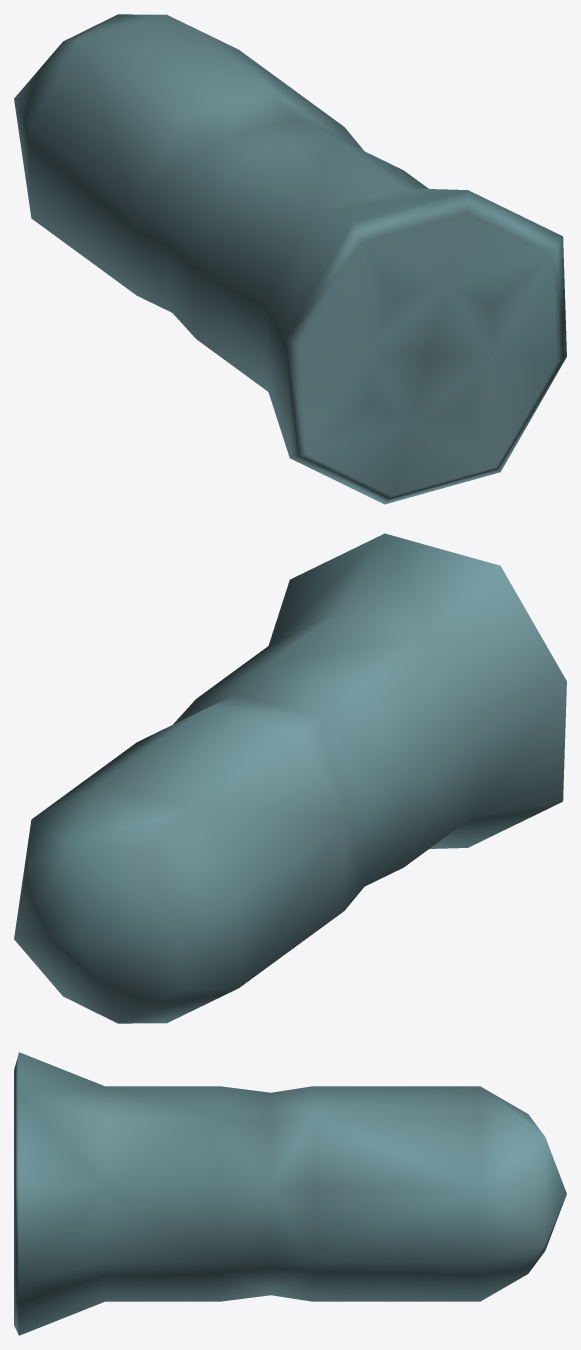
The model's file is TinyStalagmite.002.glb.
3 renders of one model, top to bottom at view 1: azimuth 30°, elevation 25°; view 2: azimuth 150°, elevation 25°; view 3: azimuth 270°, elevation 25°, orthographic. The views are drawn at different scales.
Parts seen in each view (by area): view 1: TinyStalagmite.002; view 2: TinyStalagmite.002; view 3: TinyStalagmite.002.
Part boxes in pixels (x1,y1,x2,y2): TinyStalagmite.002: (14,14,566,504); TinyStalagmite.002: (14,533,566,1023); TinyStalagmite.002: (14,1052,566,1335).
Size of the model in its own units: 249 by 249 by 536.
